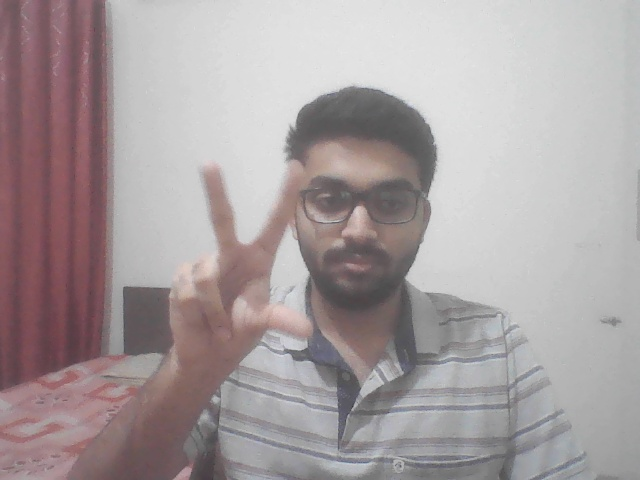no: (137, 153, 320, 403)
